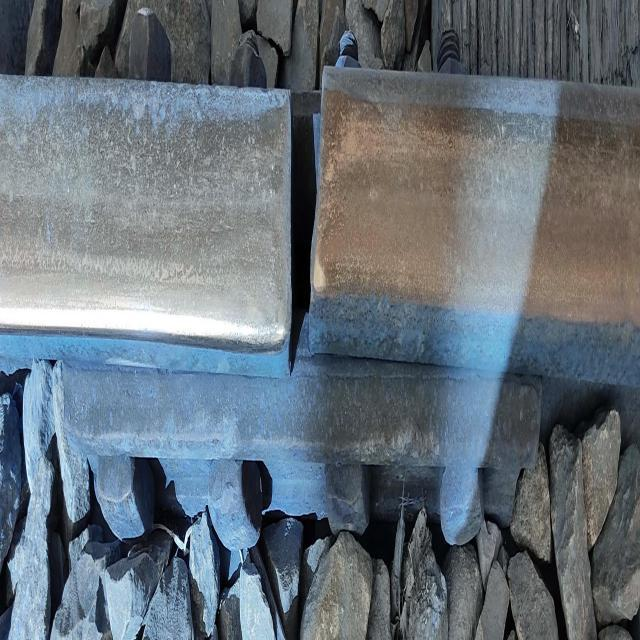Defective Joint: (12, 47, 565, 577)
